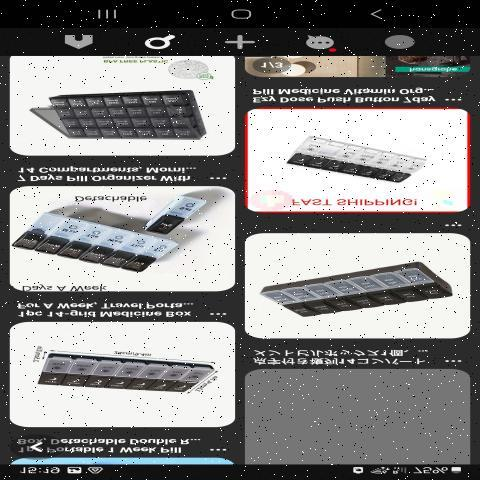PillBox: (259, 243, 463, 329), (31, 78, 211, 154), (26, 345, 223, 410), (12, 212, 184, 276), (274, 136, 449, 184)
